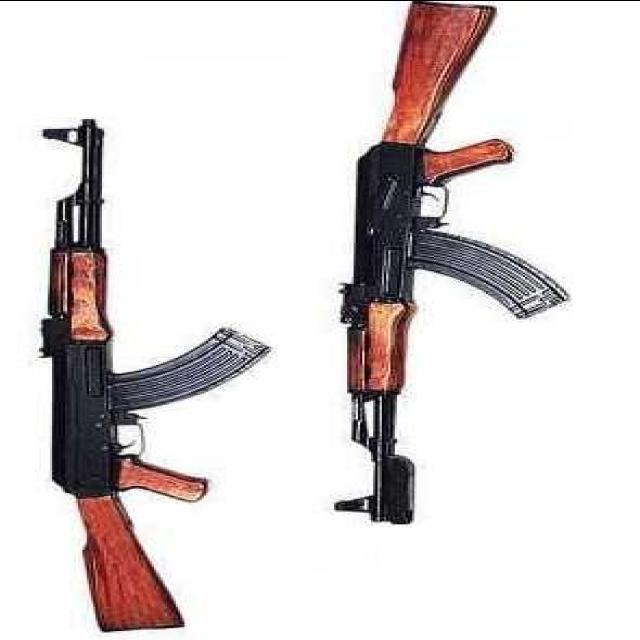heavyweapon: (1, 82, 281, 631), (316, 1, 609, 523)
